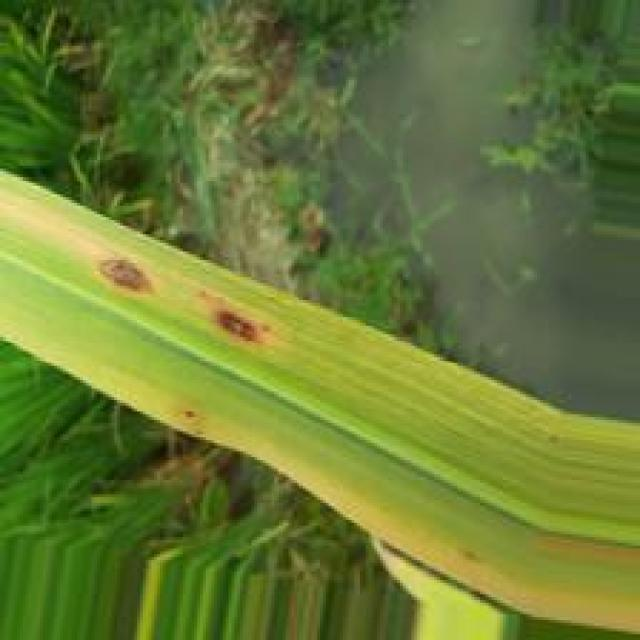Brown_Spot: (199, 300, 268, 348), (89, 254, 161, 298), (180, 410, 198, 420)
